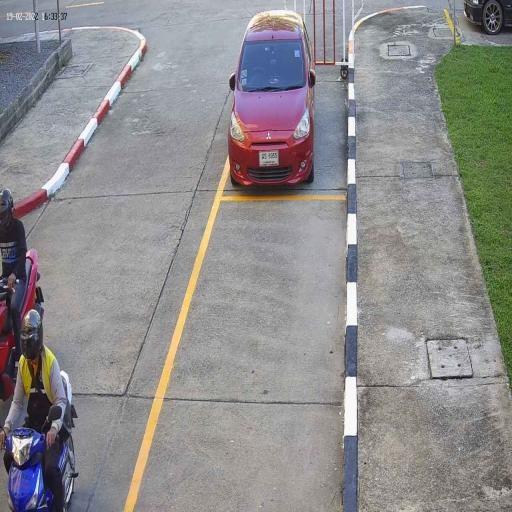car: (228, 8, 317, 191)
motorcycle: (0, 420, 76, 511), (0, 260, 38, 395)
